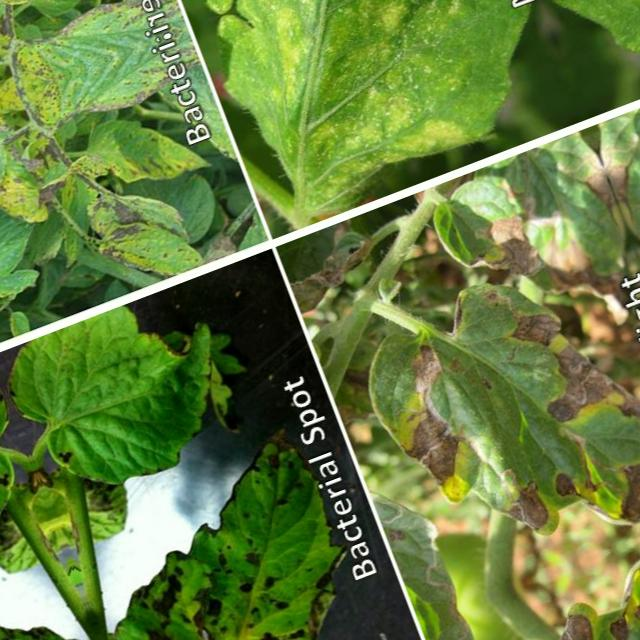Tomato leaf bacterial spot: (333, 223, 640, 615), (54, 415, 397, 640), (0, 266, 293, 524), (42, 86, 228, 223), (14, 30, 206, 154), (77, 161, 216, 290), (0, 168, 63, 333), (0, 100, 55, 248)
